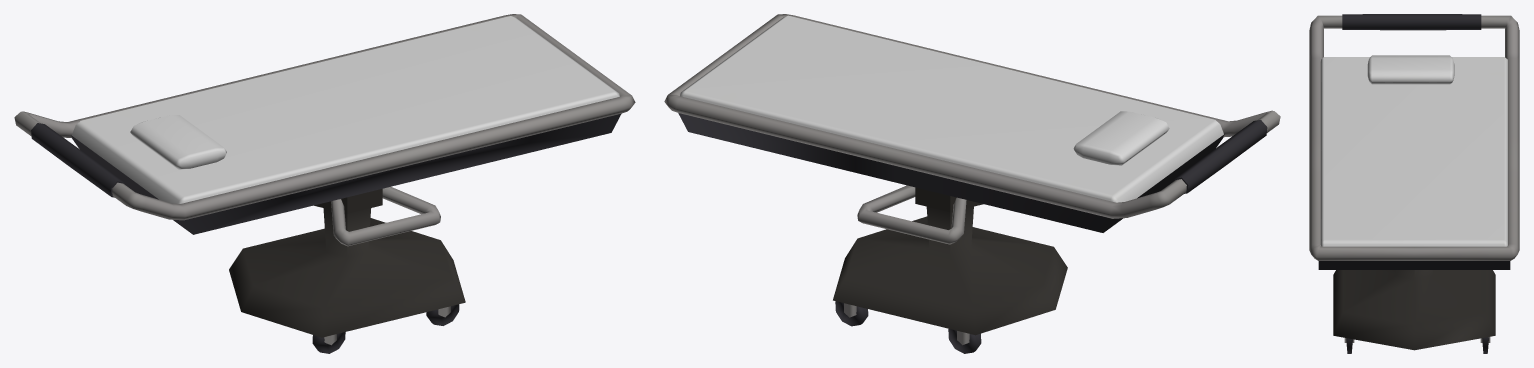
The model's file is Hospital_Bed_01.fbx.
3 renders of one model, left to right at view 1: azimuth 30°, elevation 25°; view 2: azimuth 150°, elevation 25°; view 3: azimuth 270°, elevation 25°, orthographic. The views are drawn at different scales.
Parts seen in each view (by area): view 1: Hospital_Bed_01; view 2: Hospital_Bed_01; view 3: Hospital_Bed_01.
Part boxes in pixels (<box>): Hospital_Bed_01: <box>14,14,635,353</box>; Hospital_Bed_01: <box>664,14,1280,353</box>; Hospital_Bed_01: <box>1309,14,1519,353</box>.
Size of the model in its own units: 9.76 by 4.16 by 4.
